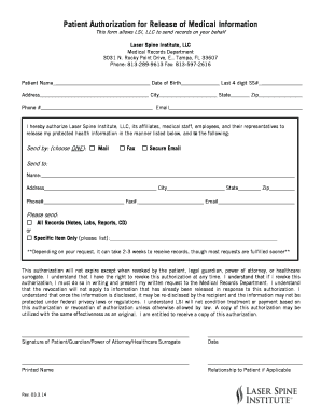checkbox: (88, 144, 97, 153), (142, 143, 149, 153), (120, 142, 126, 152), (25, 233, 32, 241), (25, 220, 34, 226)
textline: (42, 172, 295, 181), (18, 328, 191, 339), (111, 234, 279, 245), (20, 359, 195, 369), (168, 101, 305, 113), (41, 103, 154, 114), (207, 331, 309, 343), (54, 77, 151, 89), (44, 184, 157, 194), (205, 357, 306, 368), (219, 195, 297, 208), (39, 92, 151, 99), (45, 198, 124, 207), (137, 199, 204, 207), (168, 185, 227, 194), (157, 92, 219, 99), (259, 80, 303, 89), (256, 93, 304, 99), (180, 81, 220, 87), (268, 188, 296, 194), (232, 91, 250, 99), (238, 188, 261, 193)
